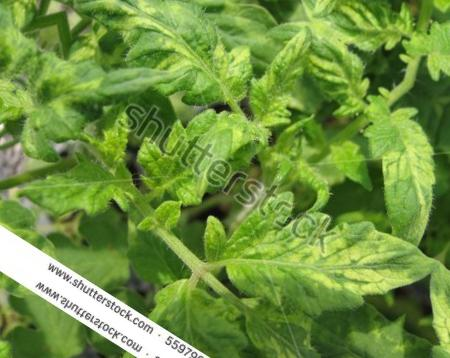Tomato leaf mosaic virus: (201, 152, 437, 358), (58, 0, 275, 133), (117, 75, 274, 237), (312, 91, 450, 259), (13, 125, 142, 246), (227, 15, 340, 148), (139, 264, 283, 358)
